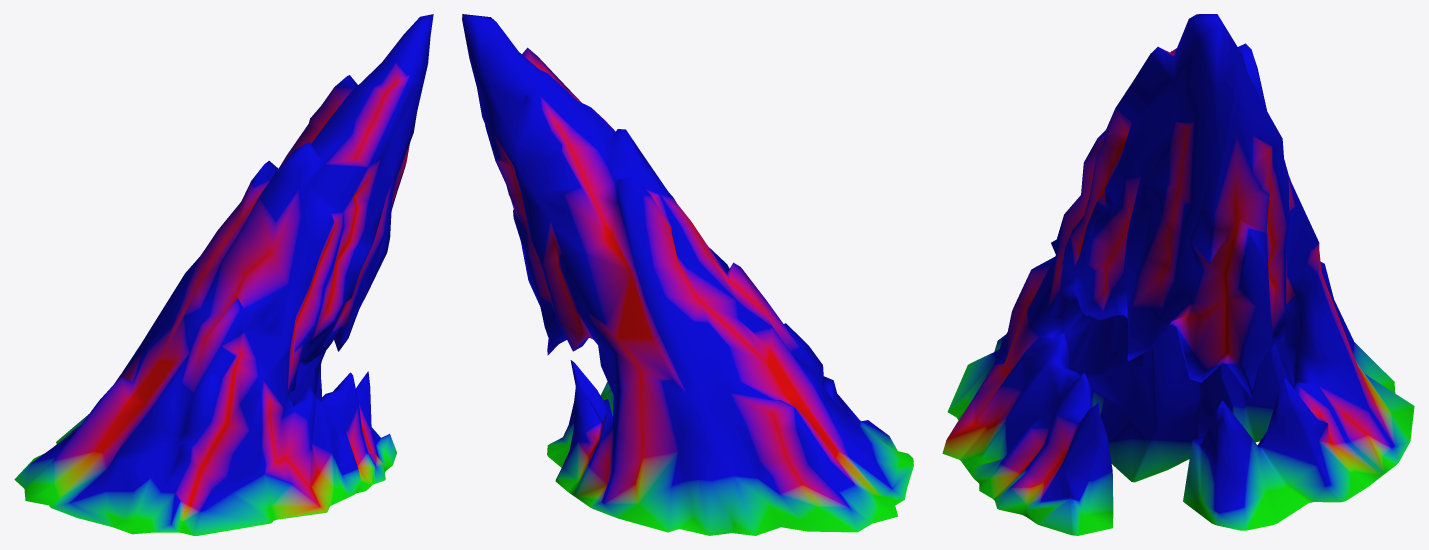
Rendered from M_Mountain_A.FBX.
The picture shows the model from 3 angles, left to right: view 1: azimuth 30°, elevation 25°; view 2: azimuth 150°, elevation 25°; view 3: azimuth 270°, elevation 25°; orthographic projection. The views are drawn at different scales.
Visible parts, largest first — view 1: Mountain_A_Part1, Mountain_A_Part2; view 2: Mountain_A_Part1; view 3: Mountain_A_Part1, Mountain_A_Part2.
Boxes of the visible parts, bbox=[...] form: Mountain_A_Part1: bbox=[14, 14, 433, 535]; Mountain_A_Part2: bbox=[289, 351, 325, 403]; Mountain_A_Part1: bbox=[462, 14, 913, 535]; Mountain_A_Part1: bbox=[942, 14, 1414, 535]; Mountain_A_Part2: bbox=[1071, 315, 1288, 482].
Bounding box in the file's own units: 109746 × 97556 × 72640.
